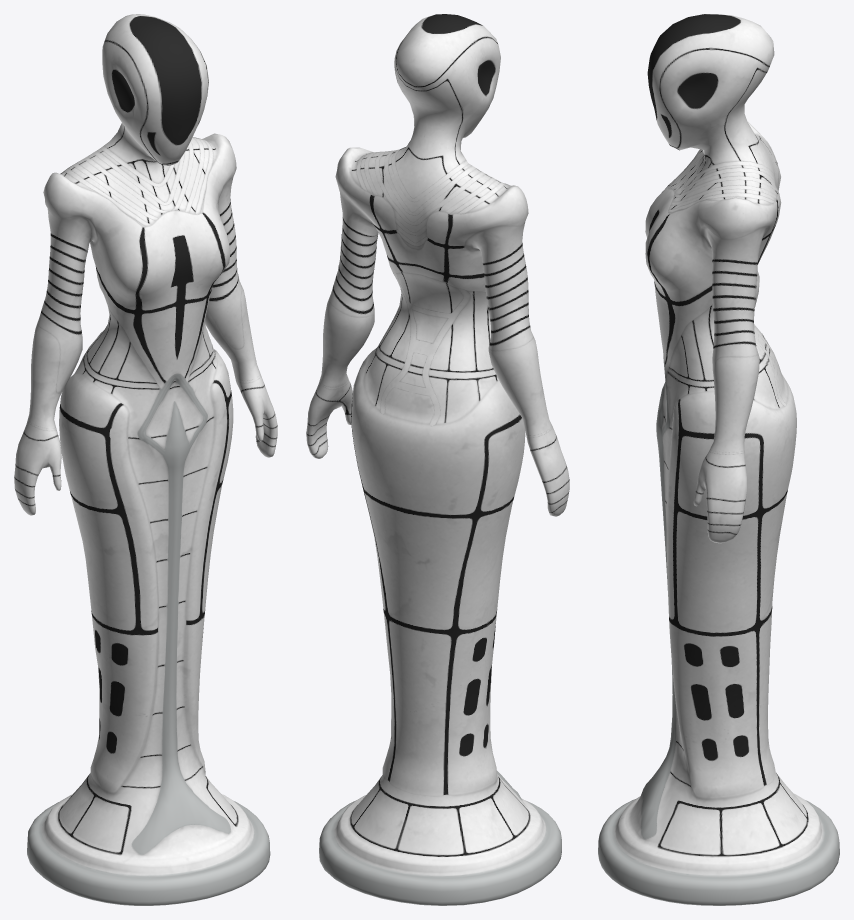
Rendered from Statue04.FBX.
3 renders of one model, left to right at view 1: azimuth 30°, elevation 25°; view 2: azimuth 150°, elevation 25°; view 3: azimuth 270°, elevation 25°, orthographic.
Parts seen in each view (by area): view 1: Statue04; view 2: Statue04; view 3: Statue04.
Boxes of the visible parts, bbox=[...] form: Statue04: bbox=[14, 14, 277, 905]; Statue04: bbox=[306, 14, 569, 905]; Statue04: bbox=[598, 14, 839, 905].
Size of what is drawn, in the model's own units: 0.6037 by 1.9 by 0.4968.
